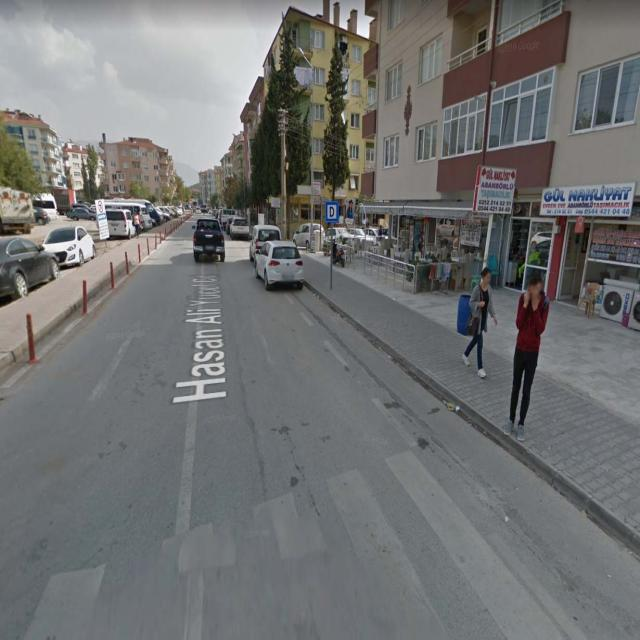durak: (325, 201, 338, 222)
